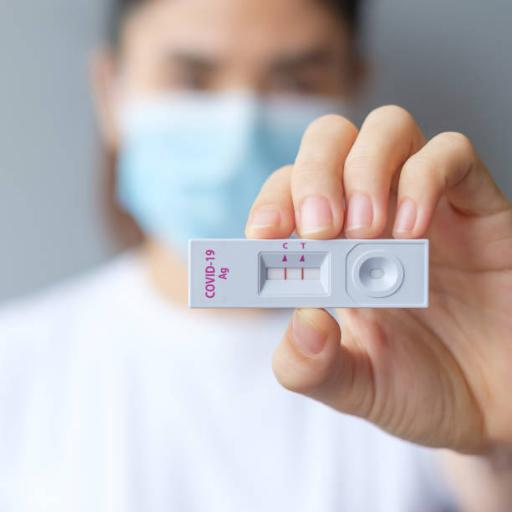Pos: (189, 236, 429, 306)
